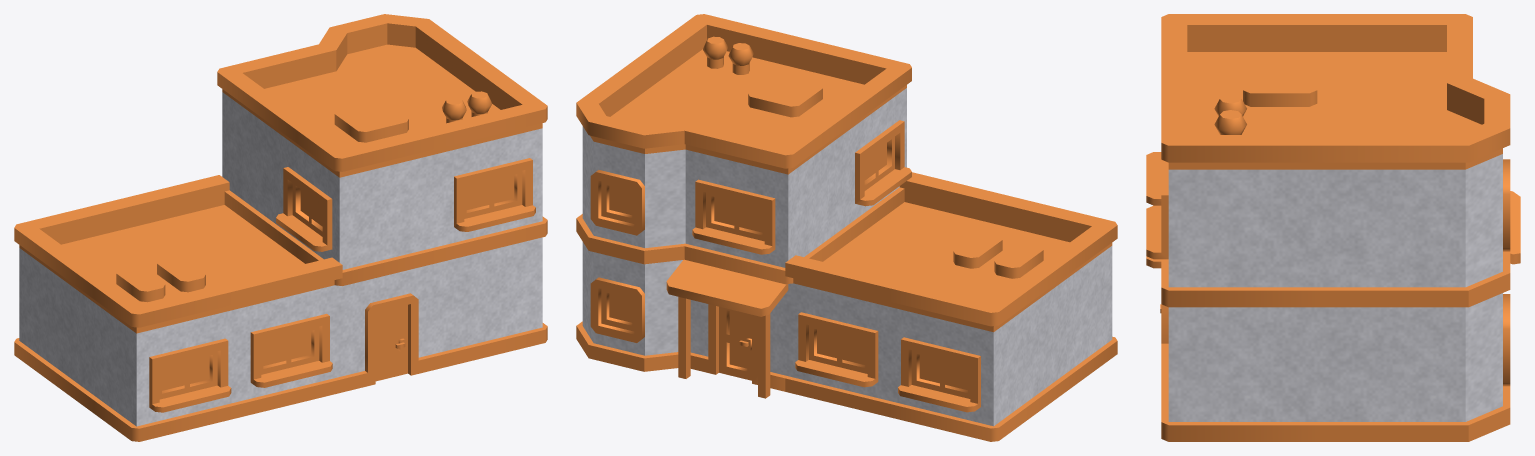
The model's file is building-e.obj.
3 renders of one model, left to right at view 1: azimuth 30°, elevation 25°; view 2: azimuth 150°, elevation 25°; view 3: azimuth 270°, elevation 25°, orthographic. The views are drawn at different scales.
Size of the model in its own units: 1.64 by 0.893 by 1.01.
